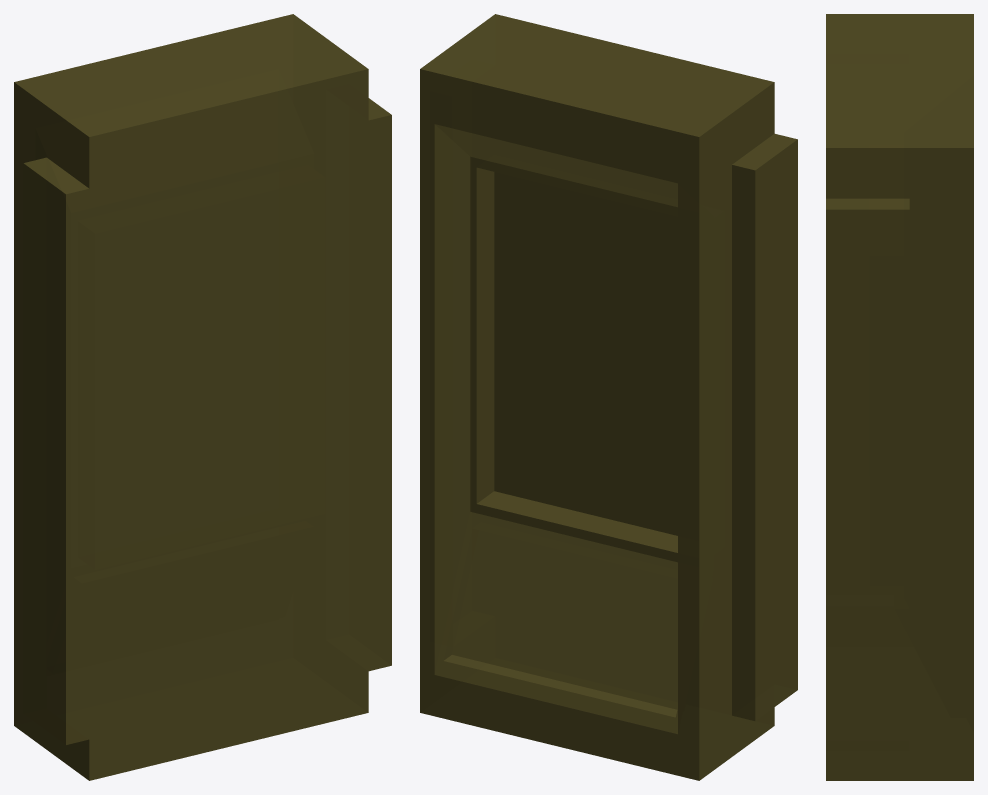
Rendered from Switch.fbx.
The picture shows the model from 3 angles, left to right: view 1: azimuth 30°, elevation 25°; view 2: azimuth 150°, elevation 25°; view 3: azimuth 270°, elevation 25°; orthographic projection.
Visible parts, largest first — view 1: Keypad; view 2: Keypad; view 3: Keypad.
Part boxes in pixels (left/top/right/bottom): Keypad: left=14, top=14, right=391, bottom=780; Keypad: left=420, top=14, right=797, bottom=780; Keypad: left=826, top=14, right=973, bottom=780.
Bounding box in the file's own units: 30.28 × 57.17 × 12.1.
